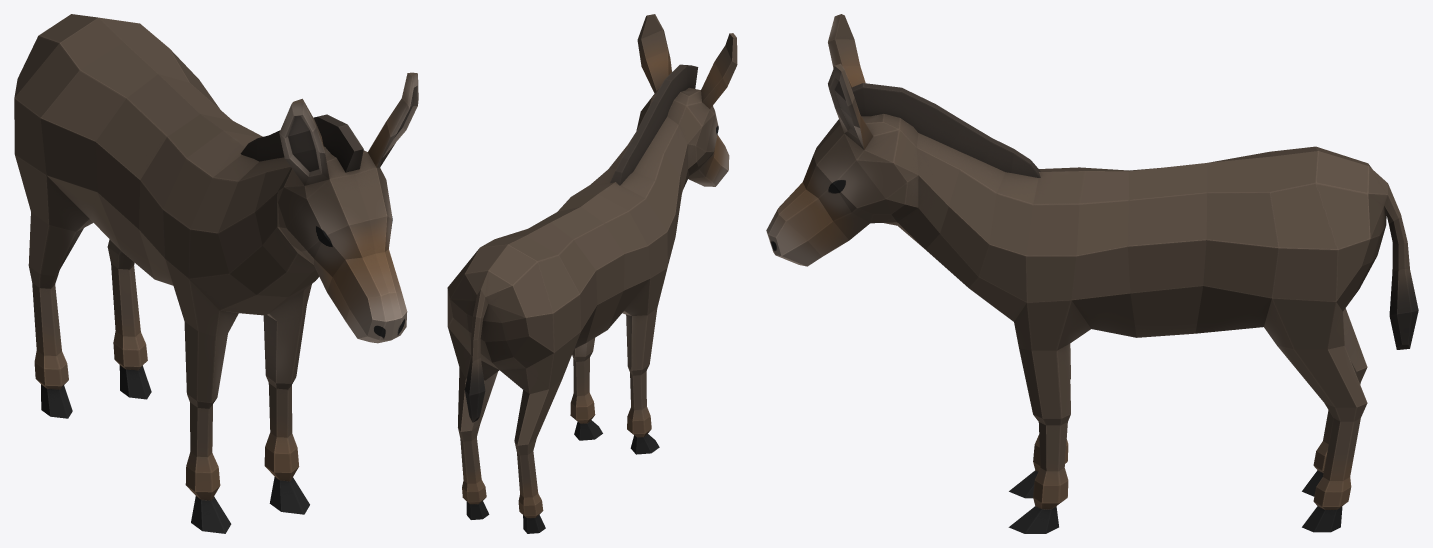
The model's file is Donkey.glb.
3 renders of one model, left to right at view 1: azimuth 30°, elevation 25°; view 2: azimuth 150°, elevation 25°; view 3: azimuth 270°, elevation 25°, orthographic. The views are drawn at different scales.
Parts seen in each view (by area): view 1: Donkey_mesh; view 2: Donkey_mesh; view 3: Donkey_mesh.
Part boxes in pixels (box(x1,y1,x2,y2)): Donkey_mesh: box(14, 14, 418, 533); Donkey_mesh: box(447, 14, 737, 533); Donkey_mesh: box(766, 14, 1418, 533).
Bounding box in the file's own units: 3.58 × 10.87 × 13.69.
Materials: 1 (1 with a texture image).
